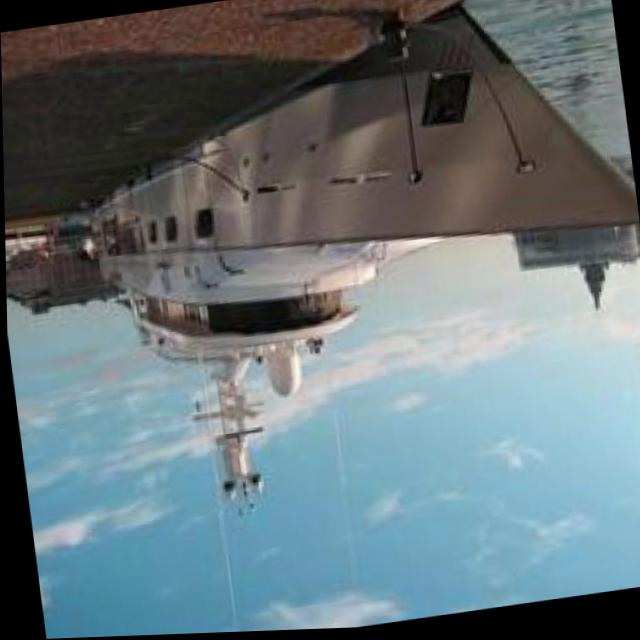ship2: (84, 3, 639, 514)
